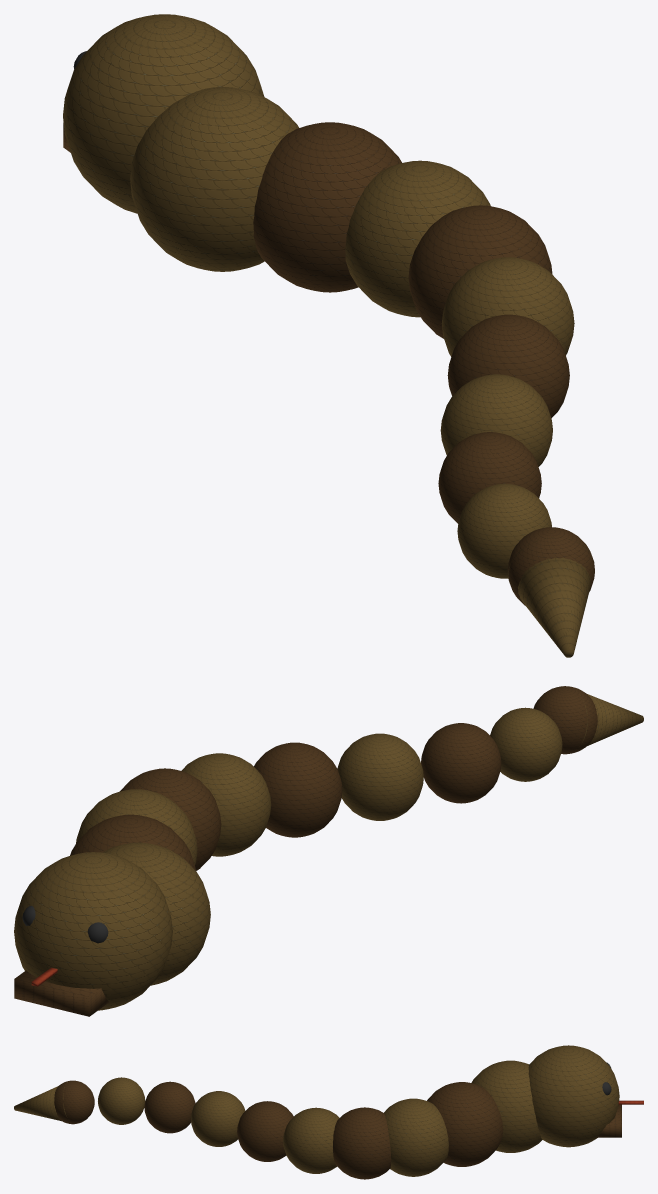
The model's file is cave-moray.glb.
3 renders of one model, top to bottom at view 1: azimuth 30°, elevation 25°; view 2: azimuth 150°, elevation 25°; view 3: azimuth 270°, elevation 25°, orthographic. The views are drawn at different scales.
Visible parts, largest first — view 1: Segment0, Head, Segment1, Segment2, Segment3, Segment4, Segment5, Segment6, Segment8, Segment7, TailTip, Segment9; view 2: Head, Segment5, Segment6, Segment0, Segment4, Segment7, Segment8, Segment3, Segment2, Segment1, Segment9, Jaw (+1 smaller); view 3: Head, Segment1, Segment2, Segment0, Segment3, Segment4, Segment5, Segment6, Segment7, Segment8, Segment9, TailTip (+1 smaller).
Boxes of the visible parts, bbox=[...] form: Segment0: bbox=[130, 86, 298, 271]; Head: bbox=[63, 14, 264, 213]; Segment1: bbox=[253, 122, 401, 292]; Segment2: bbox=[345, 160, 490, 317]; Segment3: bbox=[408, 205, 552, 338]; Segment4: bbox=[441, 257, 574, 356]; Segment5: bbox=[447, 314, 569, 418]; Segment6: bbox=[440, 374, 552, 466]; Segment8: bbox=[457, 483, 551, 578]; Segment7: bbox=[438, 432, 541, 523]; TailTip: bbox=[508, 537, 594, 657]; Segment9: bbox=[507, 527, 594, 605]; Head: bbox=[14, 852, 172, 1010]; Segment5: bbox=[254, 742, 342, 837]; Segment6: bbox=[337, 733, 423, 820]; Segment0: bbox=[103, 842, 210, 985]; Segment4: bbox=[181, 753, 271, 856]; Segment7: bbox=[421, 723, 501, 803]; Segment8: bbox=[490, 707, 562, 781]; Segment3: bbox=[120, 768, 221, 870]; Segment2: bbox=[76, 789, 197, 865]; Segment1: bbox=[70, 814, 195, 870]; Segment9: bbox=[533, 686, 597, 754]; Jaw: bbox=[14, 970, 109, 1016]; Head: bbox=[528, 1045, 619, 1147]; Segment1: bbox=[427, 1082, 503, 1166]; Segment2: bbox=[384, 1098, 448, 1176]; Segment0: bbox=[471, 1060, 542, 1152]; Segment3: bbox=[333, 1107, 391, 1179]; Segment4: bbox=[283, 1107, 339, 1173]; Segment5: bbox=[237, 1101, 293, 1161]; Segment6: bbox=[191, 1091, 245, 1146]; Segment7: bbox=[144, 1081, 195, 1133]; Segment8: bbox=[98, 1077, 145, 1124]; Segment9: bbox=[54, 1080, 94, 1124]; TailTip: bbox=[14, 1082, 70, 1122].
Bounding box in the file's own units: 0.6475 × 0.3728 × 2.16.
4 materials, 3 textured.
